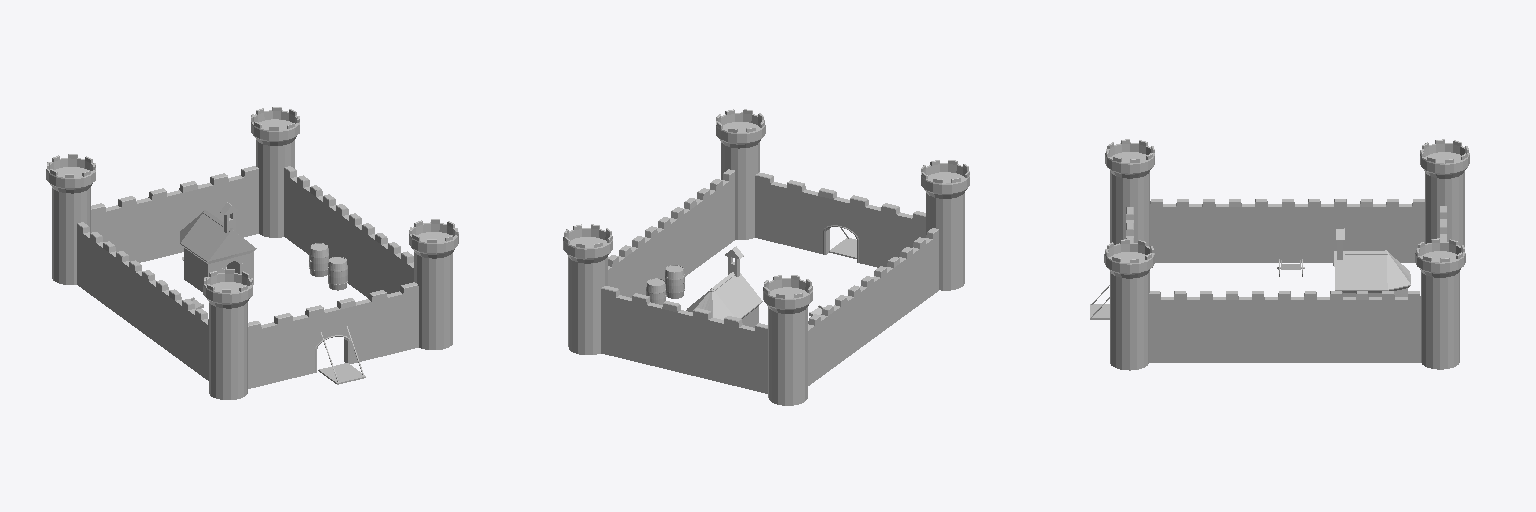
The model's file is Egybe.obj.
3 views of the same model, side by side, from view 1: azimuth 30°, elevation 25°; view 2: azimuth 150°, elevation 25°; view 3: azimuth 270°, elevation 25° (orthographic).
Parts seen in each view (by area): view 1: Wall_Cube, LongWall_Cube.001, Wall2_Cube.005, LongWall2_Cube.003, Tower_Cylinder, Tower2_Cylinder.001, Tower3_Cylinder.002, Tower4_Cylinder.003, Plane.001, Elevator_Bridge_Cube.007, Cylinder.001_Cylinder.005, Cylinder_Cylinder.004; view 2: Wall2_Cube.005, Wall_Cube, LongWall_Cube.001, LongWall2_Cube.003, Tower3_Cylinder.002, Tower4_Cylinder.003, Tower_Cylinder, Tower2_Cylinder.001, Plane.001, Cylinder.001_Cylinder.005; view 3: LongWall2_Cube.003, LongWall_Cube.001, Tower2_Cylinder.001, Tower4_Cylinder.003, Tower_Cylinder, Tower3_Cylinder.002, Plane.001.
Boxes of the visible parts, <box> form: Wall_Cube: <box>248,282,418,388</box>; LongWall_Cube.001: <box>77,222,208,380</box>; Wall2_Cube.005: <box>91,166,258,262</box>; LongWall2_Cube.003: <box>284,166,413,297</box>; Tower_Cylinder: <box>203,269,252,399</box>; Tower2_Cylinder.001: <box>409,219,458,349</box>; Tower3_Cylinder.002: <box>46,154,95,284</box>; Tower4_Cylinder.003: <box>251,107,299,237</box>; Plane.001: <box>180,202,256,291</box>; Elevator_Bridge_Cube.007: <box>318,326,365,384</box>; Cylinder.001_Cylinder.005: <box>328,257,347,290</box>; Cylinder_Cylinder.004: <box>309,243,328,276</box>; Wall2_Cube.005: <box>601,286,767,393</box>; Wall_Cube: <box>755,172,925,267</box>; LongWall_Cube.001: <box>808,228,938,385</box>; LongWall2_Cube.003: <box>608,169,734,297</box>; Tower3_Cylinder.002: <box>763,275,812,405</box>; Tower4_Cylinder.003: <box>563,224,612,354</box>; Tower_Cylinder: <box>921,160,969,290</box>; Tower2_Cylinder.001: <box>716,109,765,239</box>; Plane.001: <box>686,246,762,327</box>; Cylinder.001_Cylinder.005: <box>665,265,684,298</box>; LongWall2_Cube.003: <box>1149,291,1420,362</box>; LongWall_Cube.001: <box>1150,199,1424,262</box>; Tower2_Cylinder.001: <box>1104,239,1154,370</box>; Tower4_Cylinder.003: <box>1415,238,1465,369</box>; Tower_Cylinder: <box>1105,139,1154,246</box>; Tower3_Cylinder.002: <box>1420,139,1469,246</box>; Plane.001: <box>1333,228,1410,296</box>.
Size of the model in its own units: 10.63 by 4.63 by 14.04.